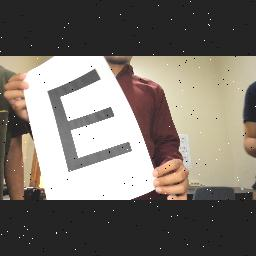e: (44, 64, 138, 180)
